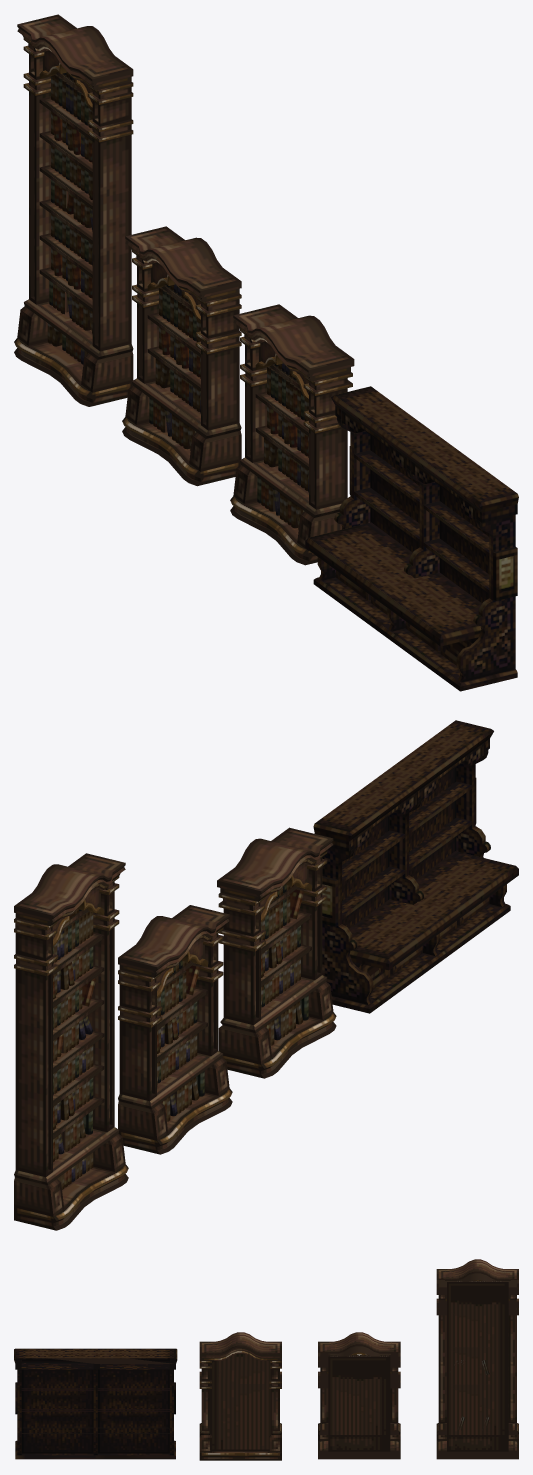
The model's file is EnvObjMD_Book_BookShelf_C.FBX.
3 views of the same model, one above another, from view 1: azimuth 30°, elevation 25°; view 2: azimuth 150°, elevation 25°; view 3: azimuth 270°, elevation 25° (orthographic). The views are drawn at different scales.
Visible parts, largest first — view 1: EnvObjMD_Book_BookShelf_C, EnvObjMD_Book_BookShelf_C_L, EnvObjMD_Book_BookShelf_C_M, EnvObjMD_Book_BookShelf_C_M_Back; view 2: EnvObjMD_Book_BookShelf_C, EnvObjMD_Book_BookShelf_C_L, EnvObjMD_Book_BookShelf_C_M_Back, EnvObjMD_Book_BookShelf_C_M; view 3: EnvObjMD_Book_BookShelf_C, EnvObjMD_Book_BookShelf_C_L, EnvObjMD_Book_BookShelf_C_M_Back, EnvObjMD_Book_BookShelf_C_M.
Boxes of the visible parts, <box> form: EnvObjMD_Book_BookShelf_C: <box>305,386,518,691</box>; EnvObjMD_Book_BookShelf_C_L: <box>14,14,133,406</box>; EnvObjMD_Book_BookShelf_C_M: <box>122,226,241,486</box>; EnvObjMD_Book_BookShelf_C_M_Back: <box>230,304,354,565</box>; EnvObjMD_Book_BookShelf_C: <box>313,720,518,1013</box>; EnvObjMD_Book_BookShelf_C_L: <box>14,853,128,1230</box>; EnvObjMD_Book_BookShelf_C_M_Back: <box>217,827,336,1078</box>; EnvObjMD_Book_BookShelf_C_M: <box>118,905,232,1154</box>; EnvObjMD_Book_BookShelf_C: <box>14,1348,177,1459</box>; EnvObjMD_Book_BookShelf_C_L: <box>436,1259,518,1459</box>; EnvObjMD_Book_BookShelf_C_M_Back: <box>199,1332,281,1460</box>; EnvObjMD_Book_BookShelf_C_M: <box>318,1332,400,1459</box>.
Bounding box in the file's own units: 118 × 500 × 1226.
Materials: 3 (3 with a texture image).
